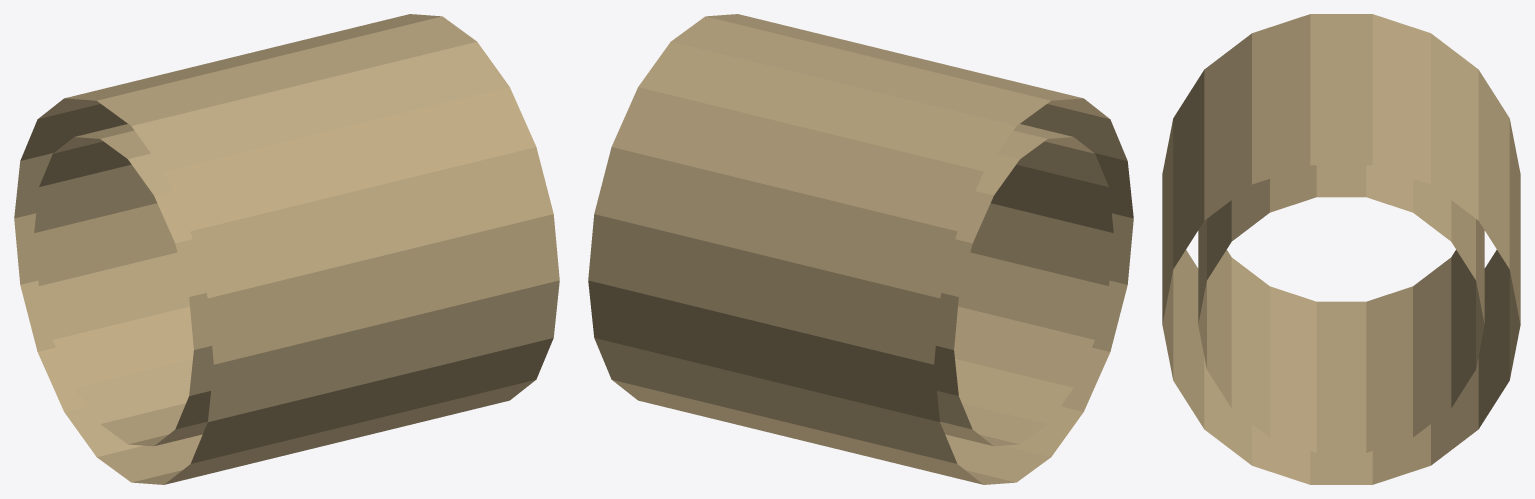
The model's file is Pipe_Middle_Small_Sewer_Environment.FBX.
The picture shows the model from 3 angles, left to right: view 1: azimuth 30°, elevation 25°; view 2: azimuth 150°, elevation 25°; view 3: azimuth 270°, elevation 25°; orthographic projection. The views are drawn at different scales.
Visible parts, largest first — view 1: Rohrmittelstück_klein; view 2: Rohrmittelstück_klein; view 3: Rohrmittelstück_klein.
Part boxes in pixels (x1,y1,x2,y2): Rohrmittelstück_klein: (14, 14, 559, 484); Rohrmittelstück_klein: (588, 14, 1133, 484); Rohrmittelstück_klein: (1162, 14, 1520, 484).
Size of the model in its own units: 100 by 98.48 by 100.
